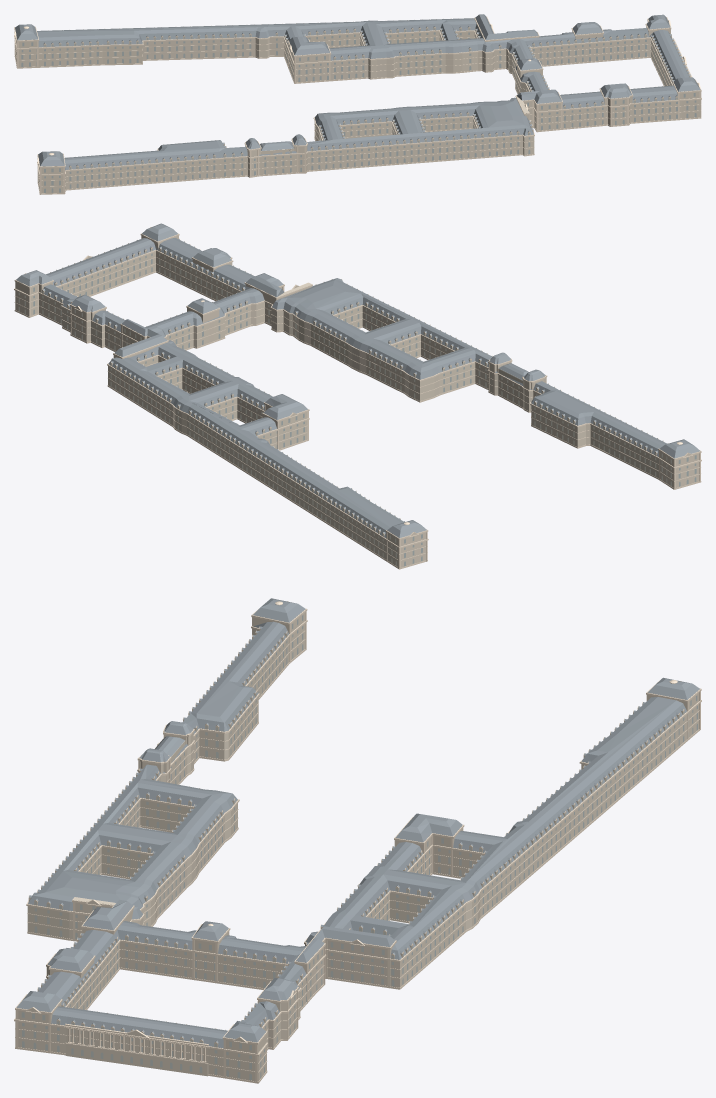
The model's file is detail.glb.
The picture shows the model from 3 angles, top to bottom: view 1: azimuth 30°, elevation 25°; view 2: azimuth 150°, elevation 25°; view 3: azimuth 270°, elevation 25°; orthographic projection. The views are drawn at different scales.
Visible parts, largest first — view 1: stone, roof, trim, window; view 2: stone, roof, trim, window; view 3: roof, stone, trim, window.
Part boxes in pixels (bbox=[...]): stone: bbox=[15, 19, 700, 193]; roof: bbox=[15, 14, 700, 171]; trim: bbox=[14, 17, 701, 194]; window: bbox=[21, 28, 696, 192]; stone: bbox=[15, 234, 699, 567]; roof: bbox=[16, 223, 700, 537]; trim: bbox=[14, 227, 701, 569]; window: bbox=[18, 249, 696, 566]; roof: bbox=[16, 598, 699, 1048]; stone: bbox=[15, 609, 699, 1081]; trim: bbox=[14, 601, 701, 1083]; window: bbox=[21, 615, 697, 1080].
Size of the model in its own units: 711 by 38 by 467.
